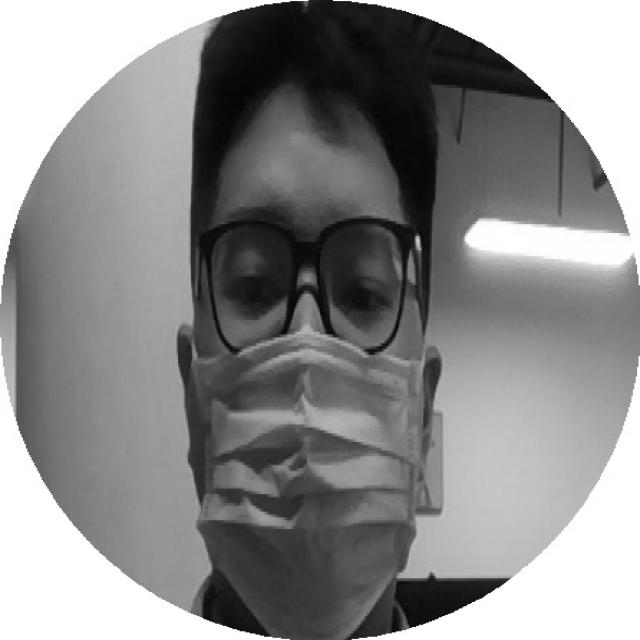fake: (183, 328, 440, 640)
real: (177, 215, 429, 350)
